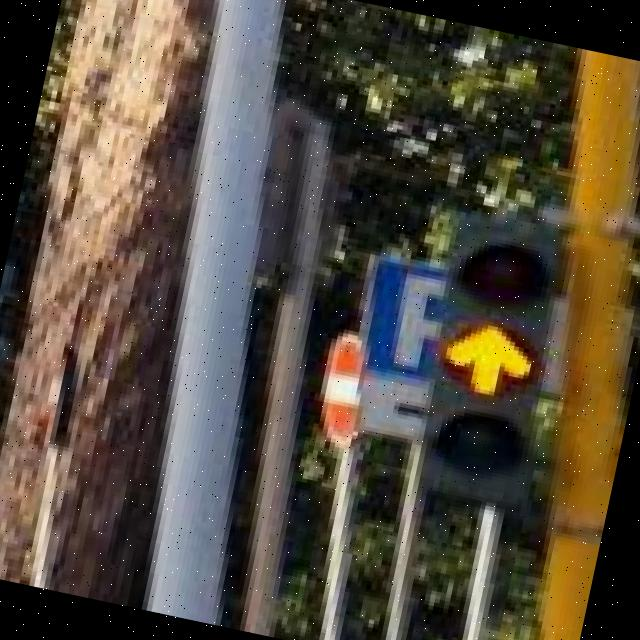yellow_light: (412, 218, 576, 492)
